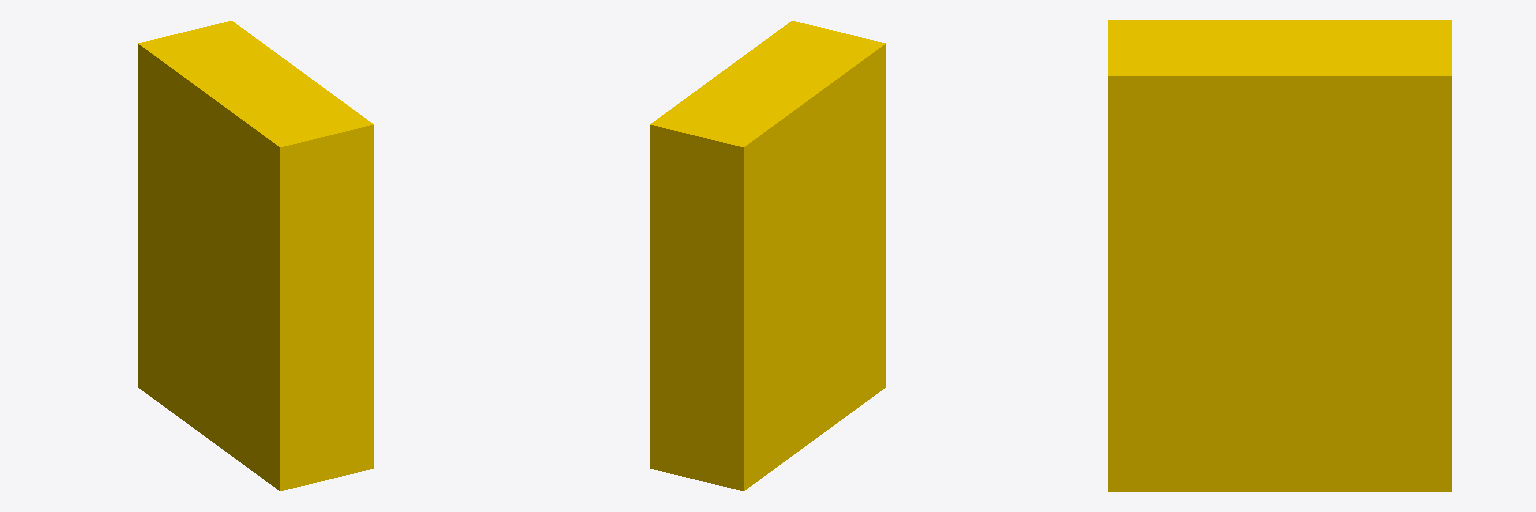
The robot description file, URDF, robot "cube":
<?xml version="1.0"?>
 <robot name="cube">
   <material name="golden">
     <color rgba="1 0.843 0 1"/>
   </material>
   <link name="base_link">
     <visual>
       <geometry>
         <box size="0.16 0.21343700408935547 0.061"/>
       </geometry>
       <origin xyz="0 0 0" rpy="1.5707963 0 1.5707963"/>
       <material name="golden"/>
     </visual>
     <inertial>
       <mass value="0"/>
       <inertia ixx="1.0" ixy="0.0" ixz="0.0" iyy="1.0" iyz="0.0" izz="1.0"/>
     </inertial>
   </link>
 </robot>

--- Render facts (derived) ---
The picture shows the robot from 3 angles, left to right: view 1: azimuth 30°, elevation 25°; view 2: azimuth 150°, elevation 25°; view 3: azimuth 270°, elevation 25°; orthographic projection.
Model cube with 1 links and 0 joints (none), rooted at base_link, posed every joint at zero.
Links seen in each view (by area): view 1: base_link; view 2: base_link; view 3: base_link.
Link boxes in pixels (bbox=[...]): base_link: bbox=[138, 21, 373, 490]; base_link: bbox=[650, 21, 885, 490]; base_link: bbox=[1108, 20, 1451, 491].
Bounding box of the posed robot: 0.061 × 0.16 × 0.2134 m (x, y, z).
Geometry: primitives only (box / cylinder / sphere), no mesh files.